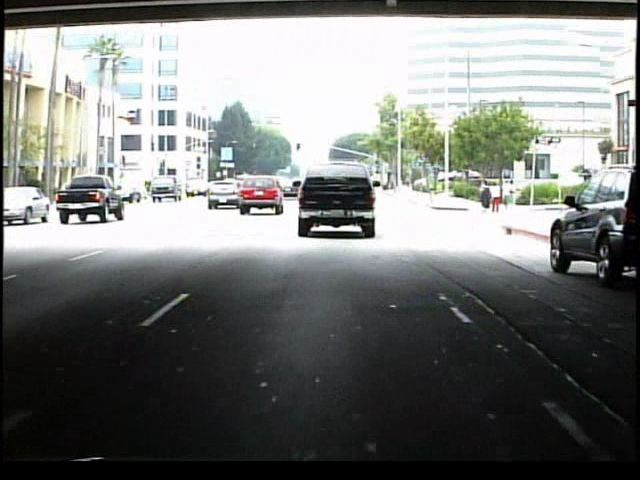person: (503, 178, 519, 217), (478, 179, 493, 216), (492, 181, 504, 215)
